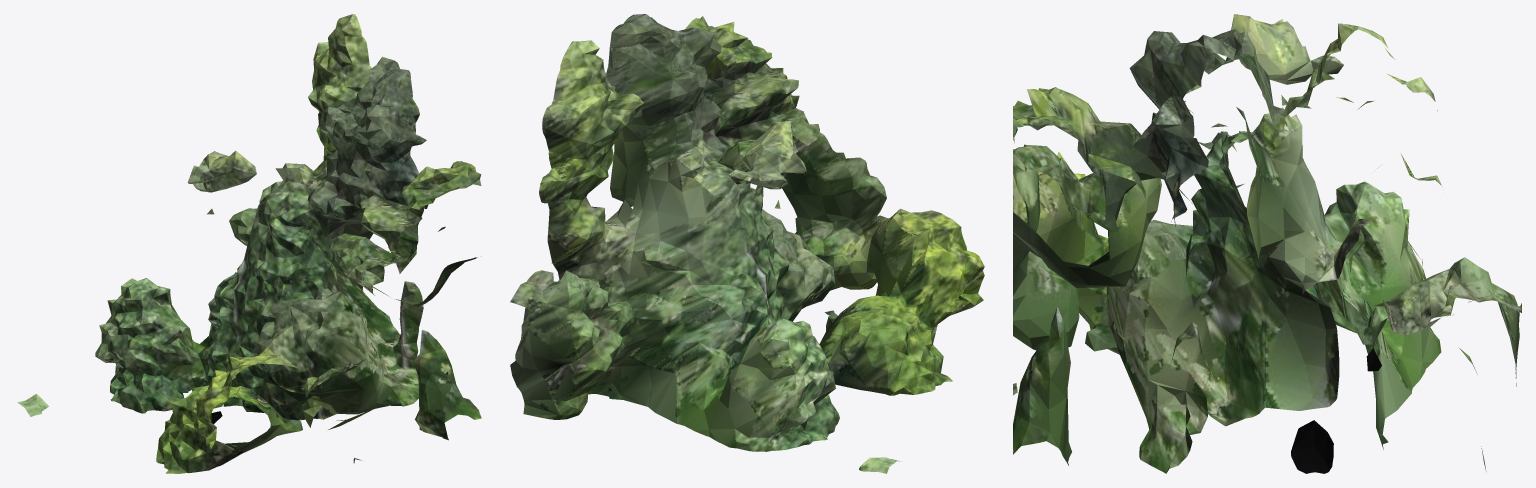
The picture shows the model from 3 angles, left to right: view 1: azimuth 30°, elevation 25°; view 2: azimuth 150°, elevation 25°; view 3: azimuth 270°, elevation 25°; orthographic projection. The views are drawn at different scales.
Size of the model in its own units: 26.11 by 25.26 by 26.11.
Materials: 6 (6 with a texture image).
